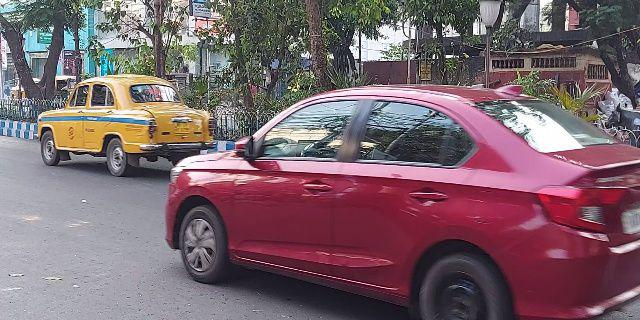Car: (159, 81, 640, 320), (36, 73, 217, 179)
